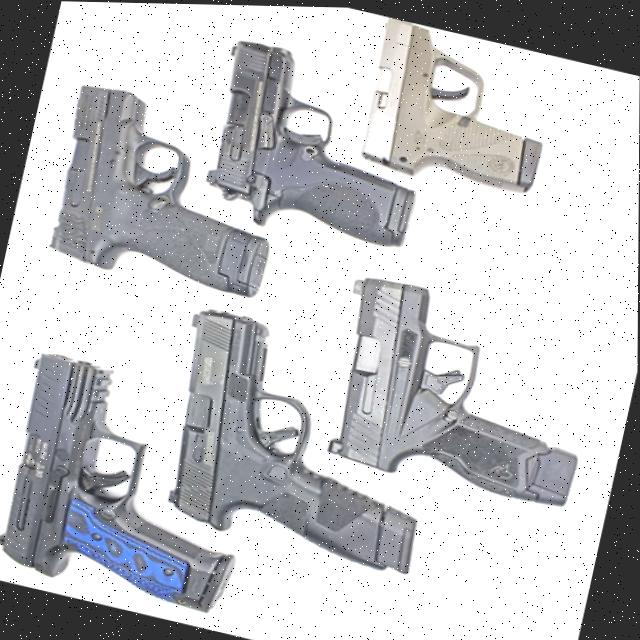pistol: (151, 302, 457, 575), (0, 345, 266, 616), (317, 269, 607, 511), (43, 75, 298, 304), (192, 33, 437, 257), (351, 13, 560, 203)
